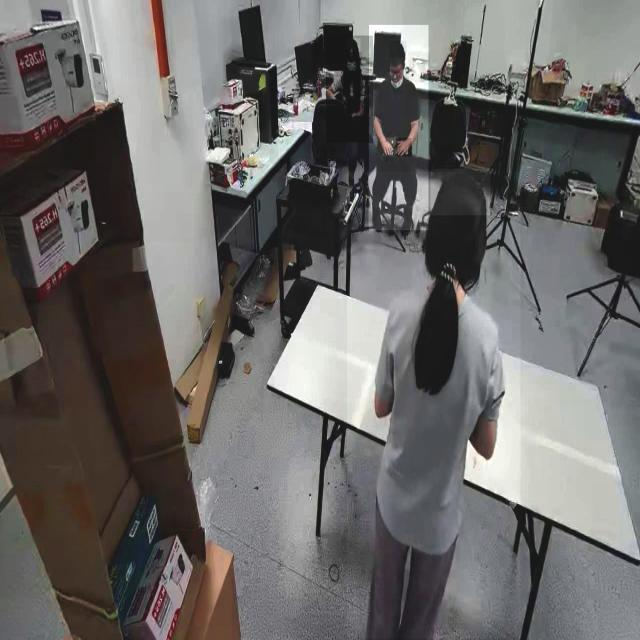face_mask: (343, 52, 361, 84)
hand_noglove: (396, 138, 412, 157), (382, 137, 394, 156)
head_nohelmet: (430, 169, 490, 216), (388, 41, 406, 59), (346, 38, 360, 52)
person: (347, 172, 520, 639), (368, 25, 428, 230), (325, 36, 373, 143)
